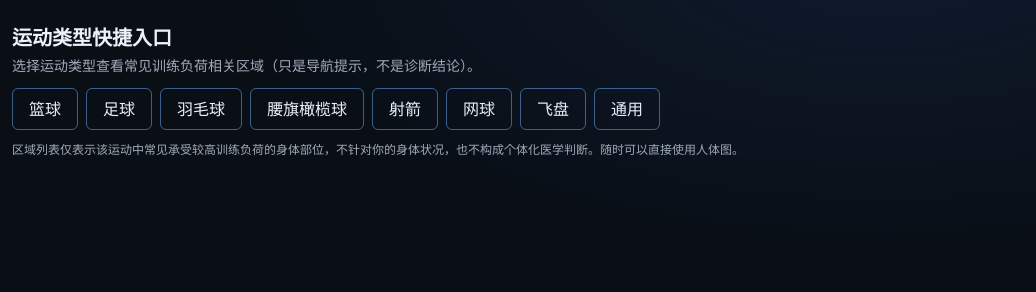
Test: SportQuickEntry component (S21 acceptance) › general entry assumes no sport and covers all six regions
The width and height of the screenshot is (1036, 292).
Click the button "通用" at coordinates (627, 109), box x1=594 y1=88 x2=660 y2=130
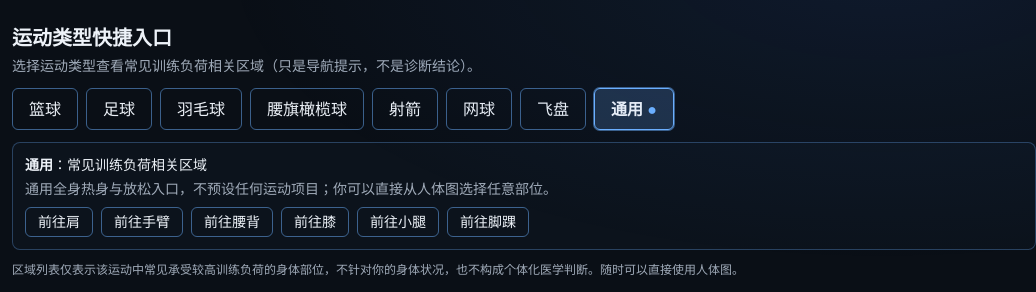
expect the text "通用全身热身与放松入口，不预设任何运动项目；你可以直接从人体图选择任意部位。" is shown: met, box x1=25 y1=179 x2=557 y2=198
